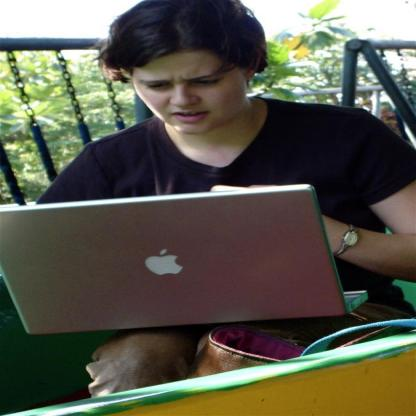board: (0, 183, 369, 335)
